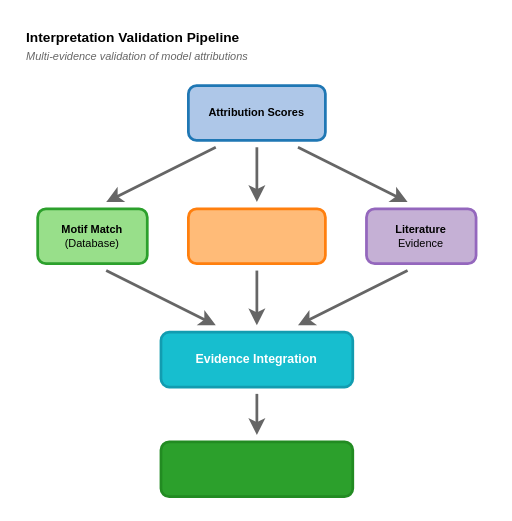
Some shapes in this 512 by 521 pixel diagram are drawn without their labels. Here are the shapes that lost their labels. From the top down, the centre of each, then its label:
At point 256,235: "Perturbation Tests (In silico)".
At point 256,468: "Validated Explanation".
